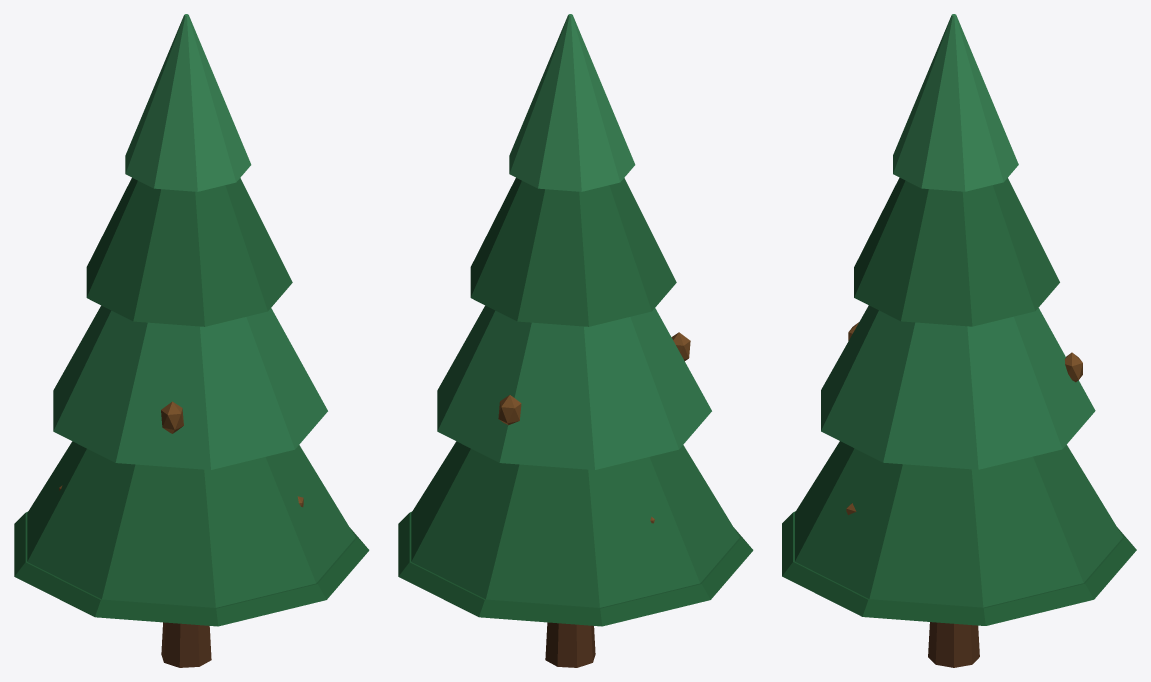
Rendered from tree_pine.glb.
3 renders of one model, left to right at view 1: azimuth 30°, elevation 25°; view 2: azimuth 150°, elevation 25°; view 3: azimuth 270°, elevation 25°, orthographic.
Visible parts, largest first — view 1: gh_tree_pine; view 2: gh_tree_pine; view 3: gh_tree_pine.
Boxes of the visible parts, x1=… form: gh_tree_pine: x1=14, y1=14, x2=369, y2=667; gh_tree_pine: x1=398, y1=14, x2=753, y2=667; gh_tree_pine: x1=782, y1=14, x2=1136, y2=667.
Size of the model in its own units: 3.05 by 6 by 3.01.
